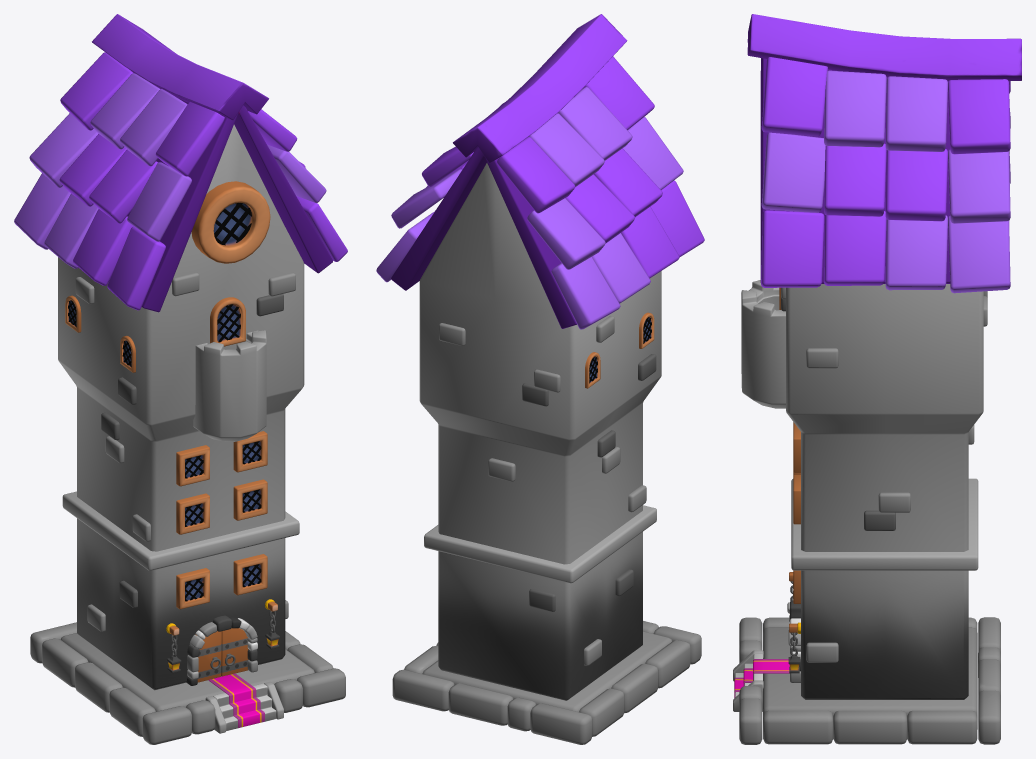
The model's file is main tower.fbx.
The picture shows the model from 3 angles, left to right: view 1: azimuth 30°, elevation 25°; view 2: azimuth 150°, elevation 25°; view 3: azimuth 270°, elevation 25°; orthographic projection. The views are drawn at different scales.
Parts seen in each view (by area): view 1: main tower; view 2: main tower; view 3: main tower.
Part boxes in pixels (box(x1,y1,x2,y2)): main tower: box(14, 14, 347, 744); main tower: box(376, 14, 704, 744); main tower: box(733, 14, 1021, 744).
Size of the model in its own units: 859 by 2288 by 879.
